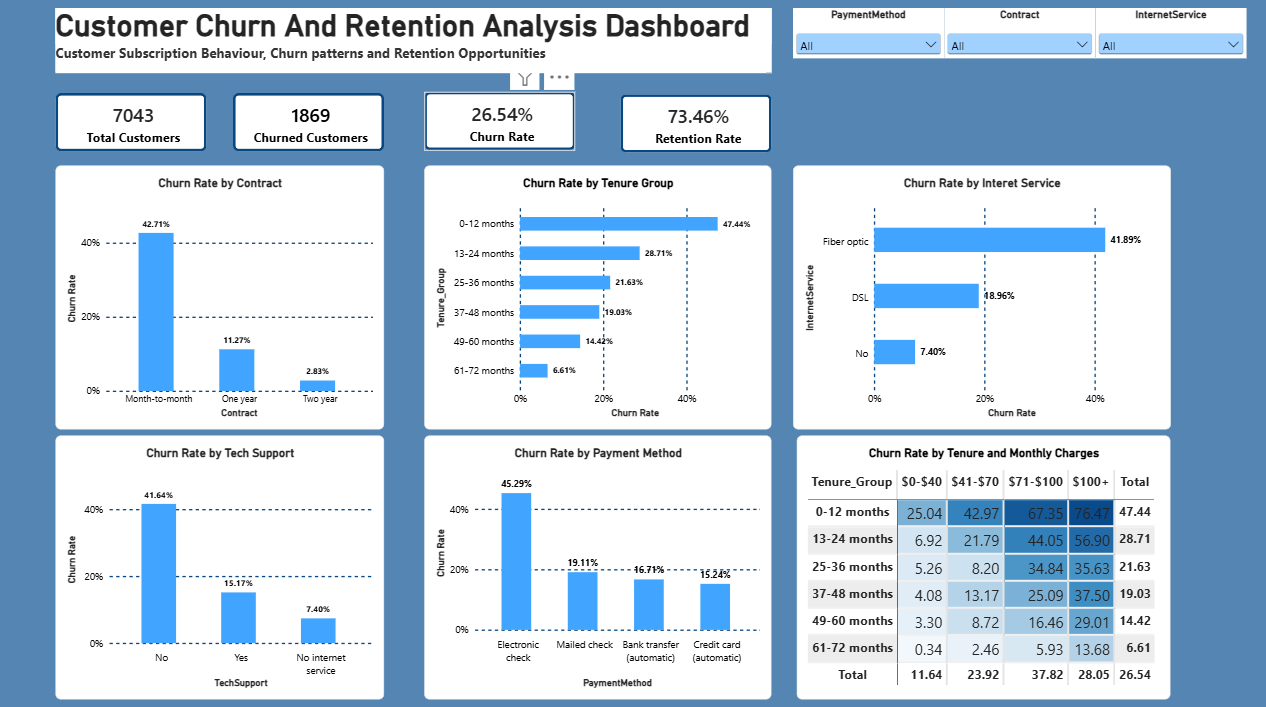

The dashboard page shown, as its layout file describes it:
{"tool":"powerbi","page":{"name":"Page 1","canvas":[1920,1080],"ordinal":0},"visuals":[{"type":"cardVisual","fields":{"Data":["Telco_Customer_Churn_cleaned.Total Customers"]},"box":[86,144,228,88],"z":0},{"type":"cardVisual","fields":{"Data":["Telco_Customer_Churn_cleaned.Churned Customers"]},"box":[354,144,228,88],"z":1000},{"type":"cardVisual","fields":{"Data":["Telco_Customer_Churn_cleaned.Churn Rate"]},"box":[643.4,141.5,228,88],"z":2000},{"type":"cardVisual","fields":{"Data":["Telco_Customer_Churn_cleaned.Retention Rate"]},"box":[939.6,145.3,228,88],"z":3000},{"type":"clusteredBarChart","title":"Churn Rate by Tenure Group","fields":{"Category":["Telco_Customer_Churn_cleaned.Tenure_Group"],"Y":["Telco_Customer_Churn_cleaned.Churn Rate"]},"box":[644,252,524,398],"z":4000},{"type":"clusteredColumnChart","title":"Churn Rate by Contract","fields":{"Category":["Telco_Customer_Churn_cleaned.Contract"],"Y":["Telco_Customer_Churn_cleaned.Churn Rate"]},"box":[86,252,496,398],"z":5000},{"type":"slicer","title":"InternetService","fields":{"Values":["Telco_Customer_Churn_cleaned.InternetService"]},"box":[1656,16,228,76],"z":6000},{"type":"slicer","title":"Contract","fields":{"Values":["Telco_Customer_Churn_cleaned.Contract"]},"box":[1428,16,228,76],"z":7000},{"type":"slicer","title":"PaymentMethod","fields":{"Values":["Telco_Customer_Churn_cleaned.PaymentMethod"]},"box":[1200,16,228,76],"z":8000},{"type":"clusteredBarChart","title":"Churn Rate by Interet Service","fields":{"Category":["Telco_Customer_Churn_cleaned.InternetService"],"Y":["Telco_Customer_Churn_cleaned.Churn Rate"]},"box":[1200,252,570,398],"z":9000},{"type":"clusteredColumnChart","title":"Churn Rate by Tech Support","fields":{"Category":["Telco_Customer_Churn_cleaned.TechSupport"],"Y":["Telco_Customer_Churn_cleaned.Churn Rate"]},"box":[86,660,496,398],"z":10000},{"type":"clusteredColumnChart","title":"Churn Rate by Payment Method","fields":{"Category":["Telco_Customer_Churn_cleaned.PaymentMethod"],"Y":["Telco_Customer_Churn_cleaned.Churn Rate"]},"box":[644,660,524,398],"z":11000},{"type":"pivotTable","title":"Churn Rate by Tenure and Monthly Charges","fields":{"Columns":["Telco_Customer_Churn_cleaned.Monthly_Charge_Group"],"Rows":["Telco_Customer_Churn_cleaned.Tenure_Group"],"Values":["Telco_Customer_Churn_cleaned.Churn Rate (Matrix)"]},"box":[1205.7,660.4,564.2,398.1],"z":12000},{"type":"textbox","title":"Customer Churn And Retention Analysis Dashboard","box":[86.8,15.1,1081.1,98.1],"z":13000}]}

Visuals, with their boxes in screenshot pixels (x1, y1, x2, y2), scaled from the page's 1920x1080 canvas onto the 1266x707 screenshot:
cardVisual - Telco_Customer_Churn_cleaned.Total Customers: 57:94:207:152
cardVisual - Telco_Customer_Churn_cleaned.Churned Customers: 233:94:384:152
cardVisual - Telco_Customer_Churn_cleaned.Churn Rate: 424:93:575:150
cardVisual - Telco_Customer_Churn_cleaned.Retention Rate: 620:95:770:153
"Churn Rate by Tenure Group" clusteredBarChart: 425:165:770:426
"Churn Rate by Contract" clusteredColumnChart: 57:165:384:426
"InternetService" slicer: 1092:10:1242:60
"Contract" slicer: 942:10:1092:60
"PaymentMethod" slicer: 791:10:942:60
"Churn Rate by Interet Service" clusteredBarChart: 791:165:1167:426
"Churn Rate by Tech Support" clusteredColumnChart: 57:432:384:693
"Churn Rate by Payment Method" clusteredColumnChart: 425:432:770:693
"Churn Rate by Tenure and Monthly Charges" pivotTable: 795:432:1167:693
"Customer Churn And Retention Analysis Dashboard" textbox: 57:10:770:74
